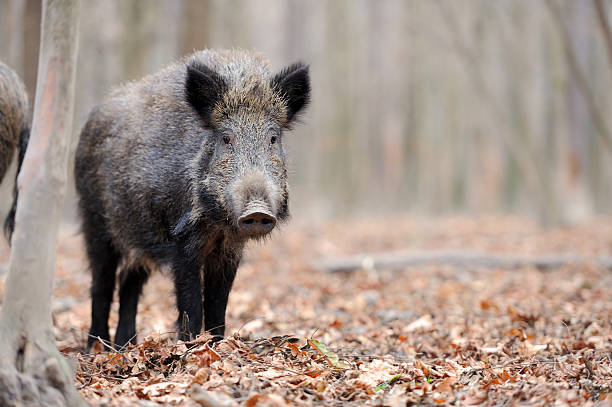pig: (145, 59, 322, 229)
